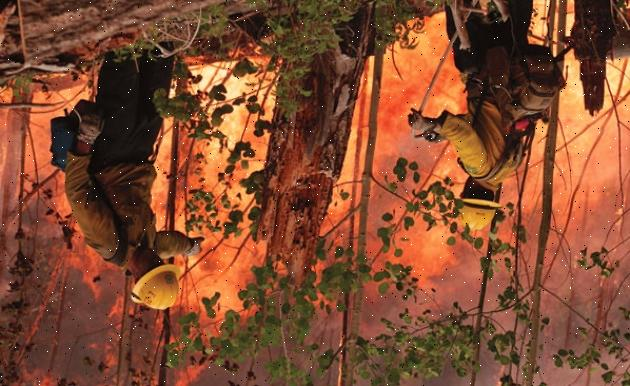fire: (174, 46, 262, 353), (360, 34, 459, 304), (538, 69, 626, 245)
